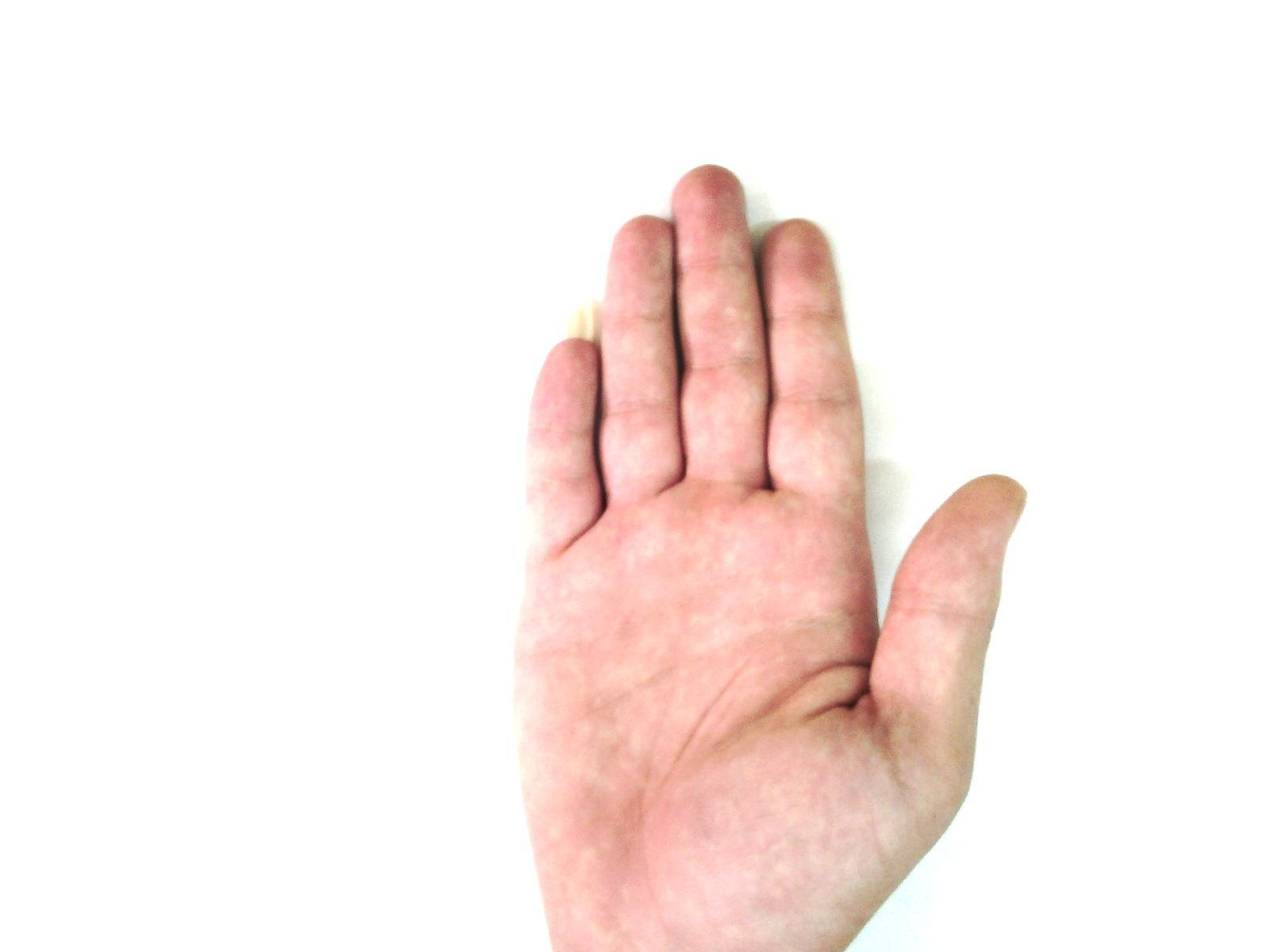open_palm: (509, 163, 1030, 951)
